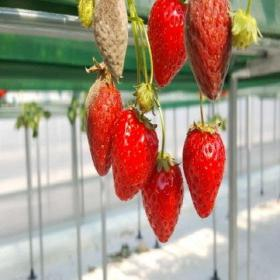Gray Mold: (92, 0, 129, 84), (84, 56, 114, 142)
